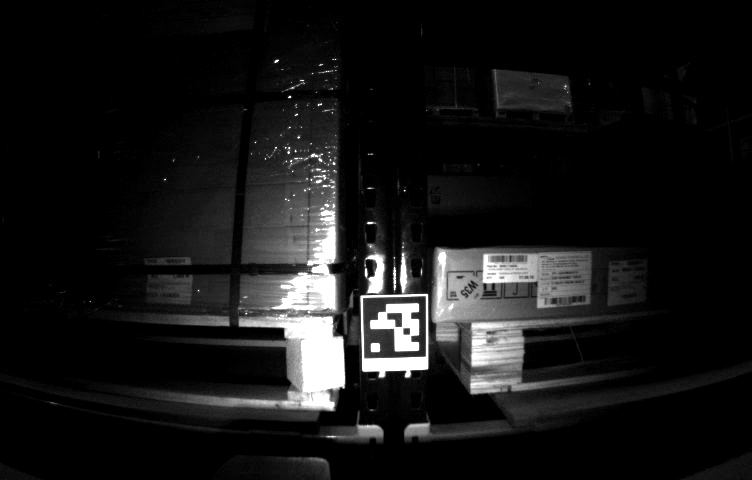True Barcode: (145, 257, 189, 303), (611, 261, 647, 301)
